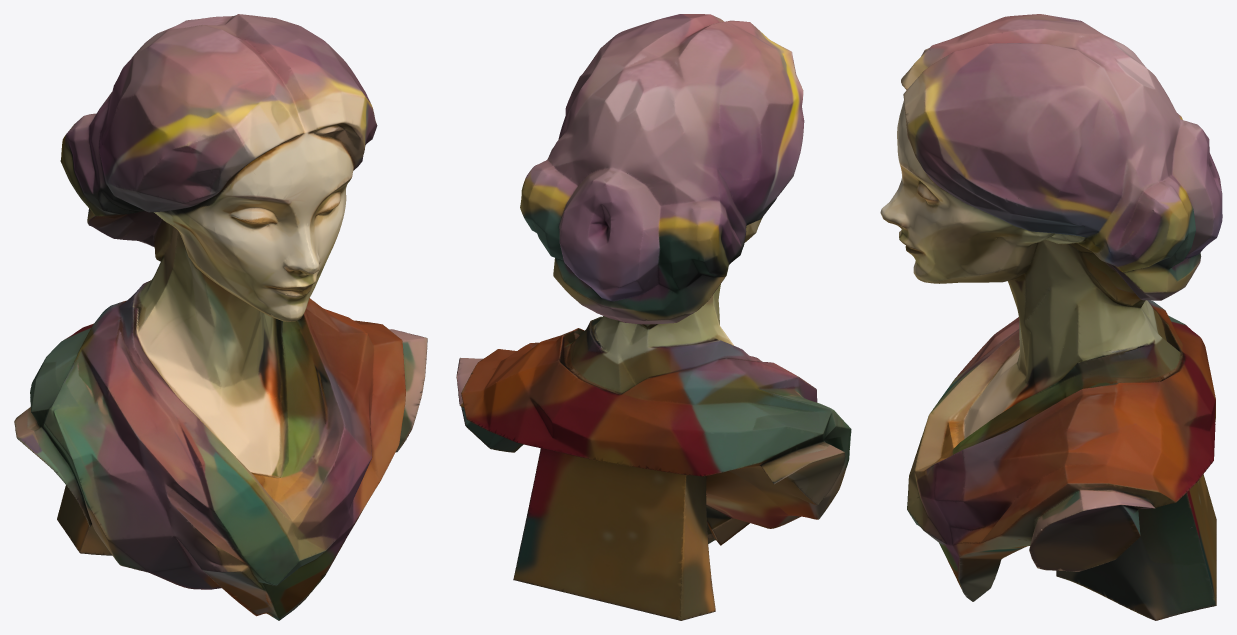
The model's file is dora_texture.fbx.
3 renders of one model, left to right at view 1: azimuth 30°, elevation 25°; view 2: azimuth 150°, elevation 25°; view 3: azimuth 270°, elevation 25°, orthographic. The views are drawn at different scales.
Parts seen in each view (by area): view 1: Mesh_0; view 2: Mesh_0; view 3: Mesh_0.
Boxes of the visible parts, box(x1,y1,x2,y2) form: Mesh_0: box(14, 14, 427, 620); Mesh_0: box(456, 14, 851, 620); Mesh_0: box(880, 14, 1222, 620).
Bounding box in the file's own units: 143 × 190 × 104.
Materials: 1 (1 with a texture image).
